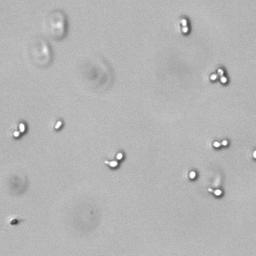budding: (209, 67, 229, 85), (104, 151, 125, 168), (12, 121, 27, 138), (179, 17, 191, 37), (210, 139, 229, 149), (206, 186, 223, 197)
individual: (186, 168, 198, 181), (53, 120, 63, 132)
